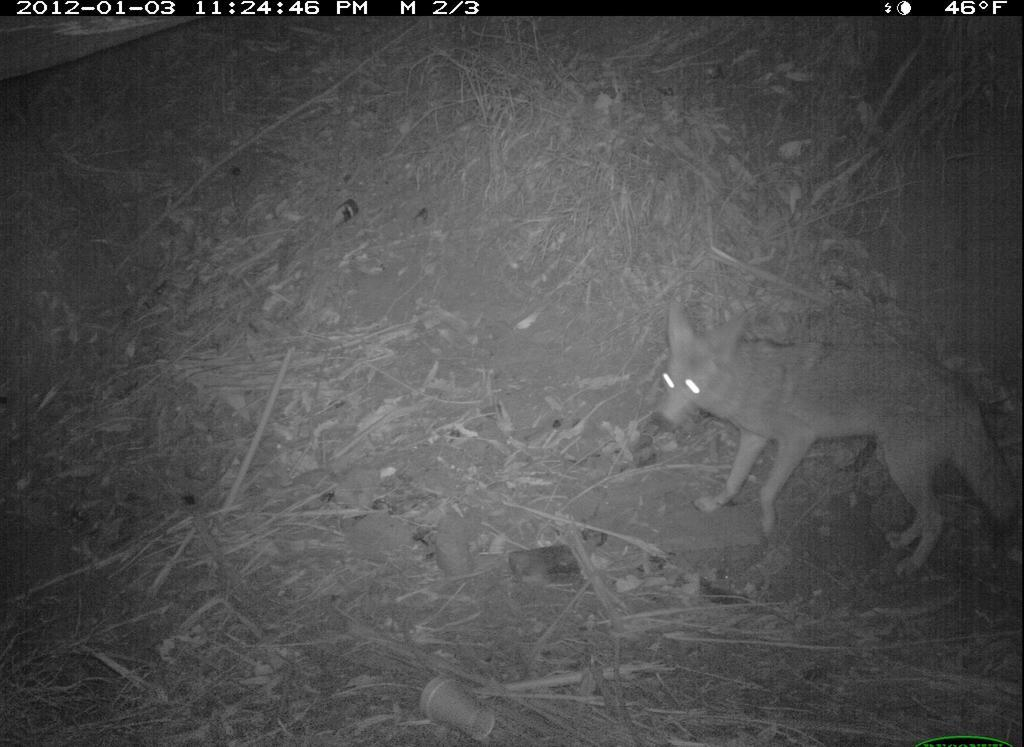coyote: (649, 296, 1019, 582)
